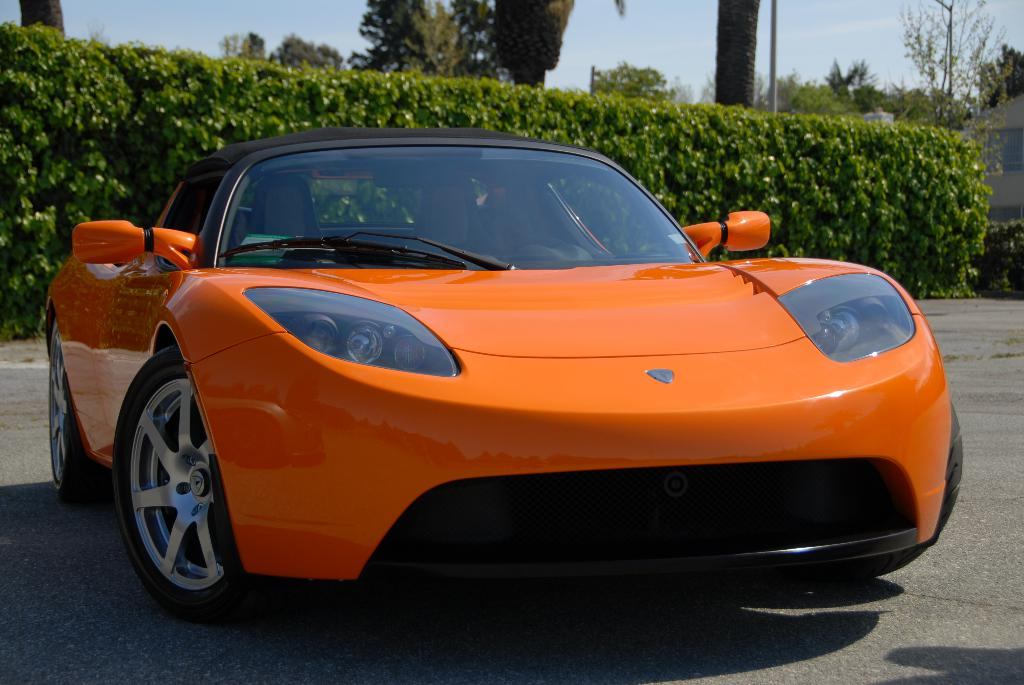Car: (44, 127, 963, 615)
